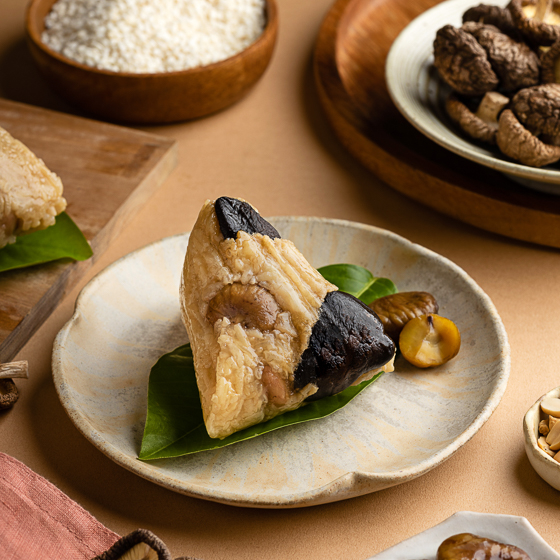zongzi: (181, 197, 394, 437)
